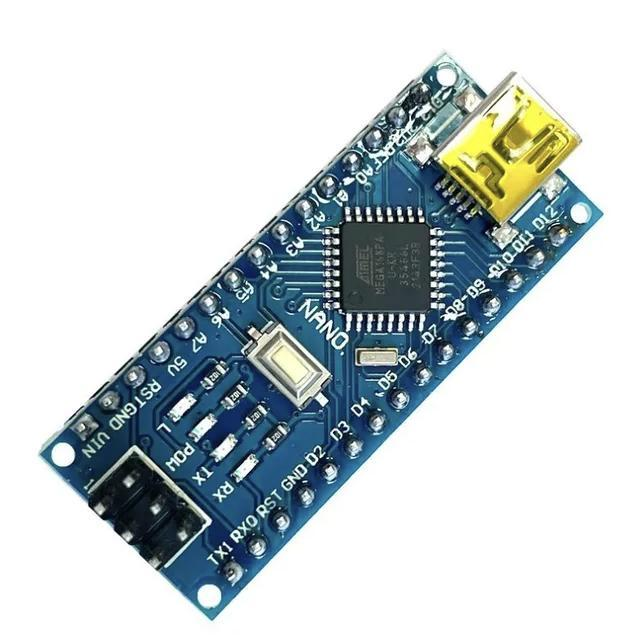Arduino-Nano: (42, 55, 601, 618)
